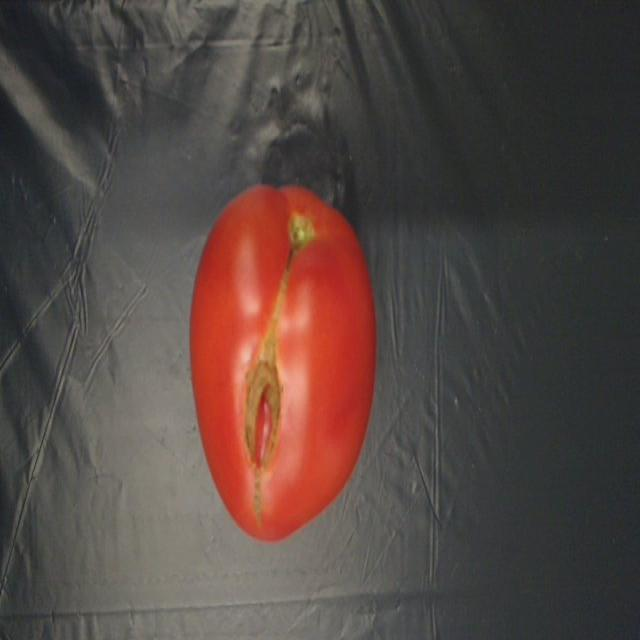kirmizi: (164, 162, 404, 568)
